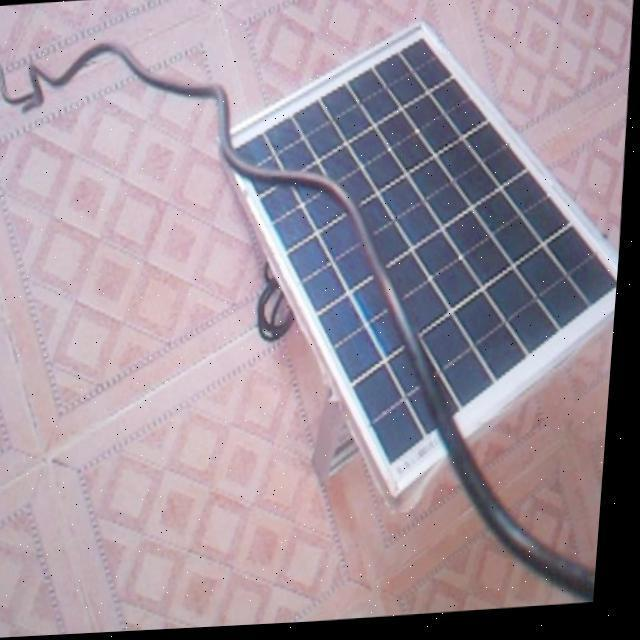Normal Solar Panel: (198, 12, 638, 513)
